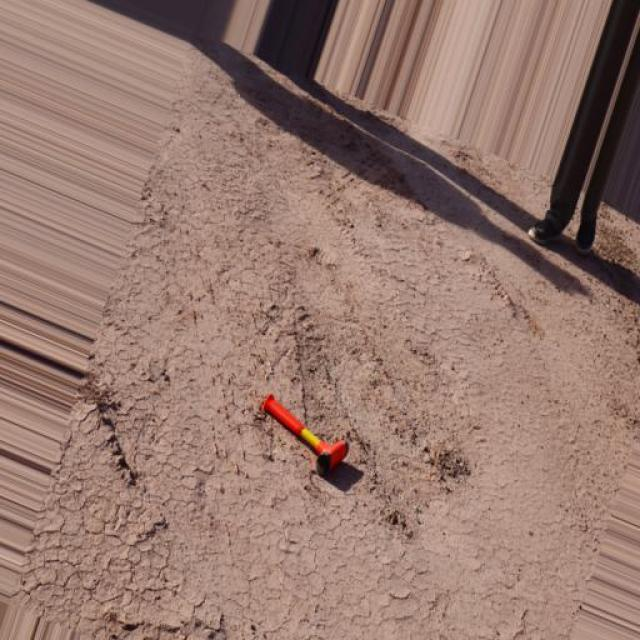mallet: (259, 392, 349, 478)
